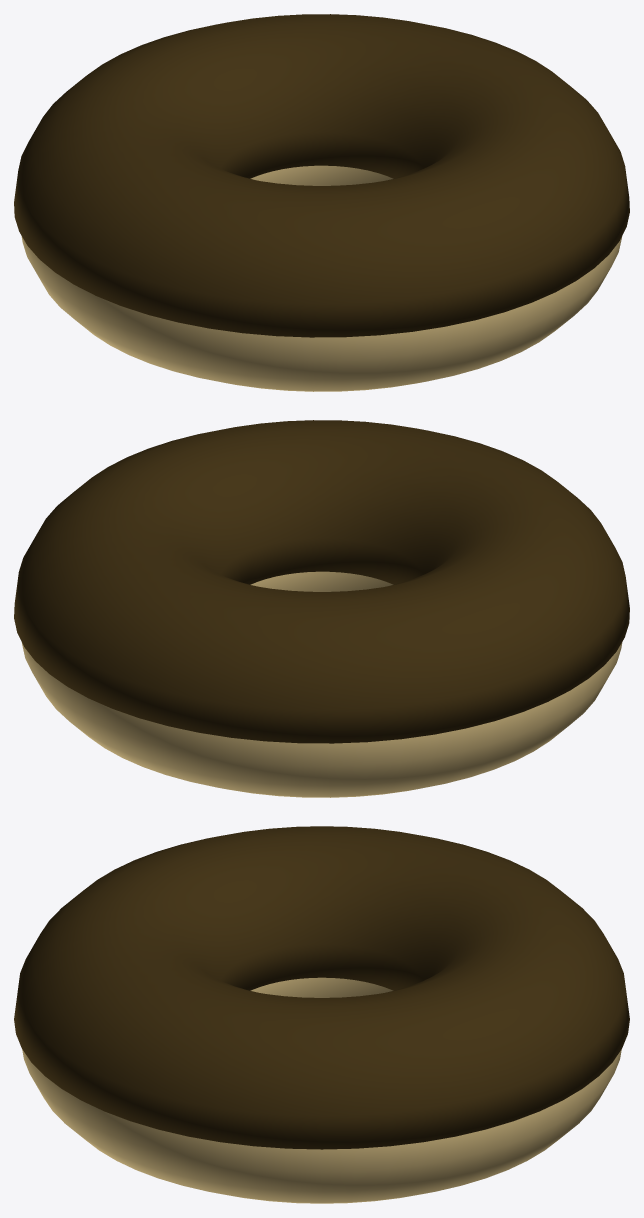
3 views of the same model, one above another, from view 1: azimuth 30°, elevation 25°; view 2: azimuth 150°, elevation 25°; view 3: azimuth 270°, elevation 25° (orthographic).
Parts seen in each view (by area): view 1: Torus.002, Torus.001; view 2: Torus.002, Torus.001; view 3: Torus.002, Torus.001.
Part boxes in pixels (x1,y1,x2,y2): Torus.002: [14, 14, 629, 337]; Torus.001: [21, 165, 622, 391]; Torus.002: [14, 420, 629, 743]; Torus.001: [21, 571, 622, 797]; Torus.002: [14, 826, 629, 1149]; Torus.001: [22, 977, 621, 1203].
Size of the model in its own units: 3.03 by 1.02 by 3.03.
